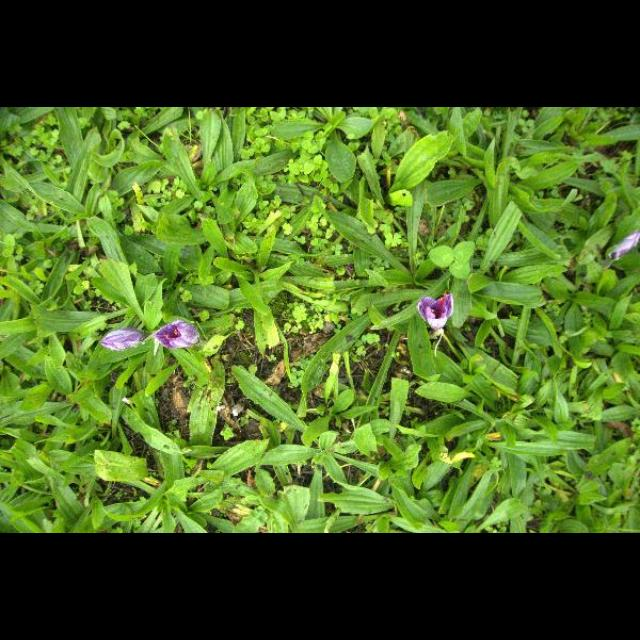flower: (416, 293, 456, 331), (153, 321, 201, 351), (102, 328, 146, 352)
